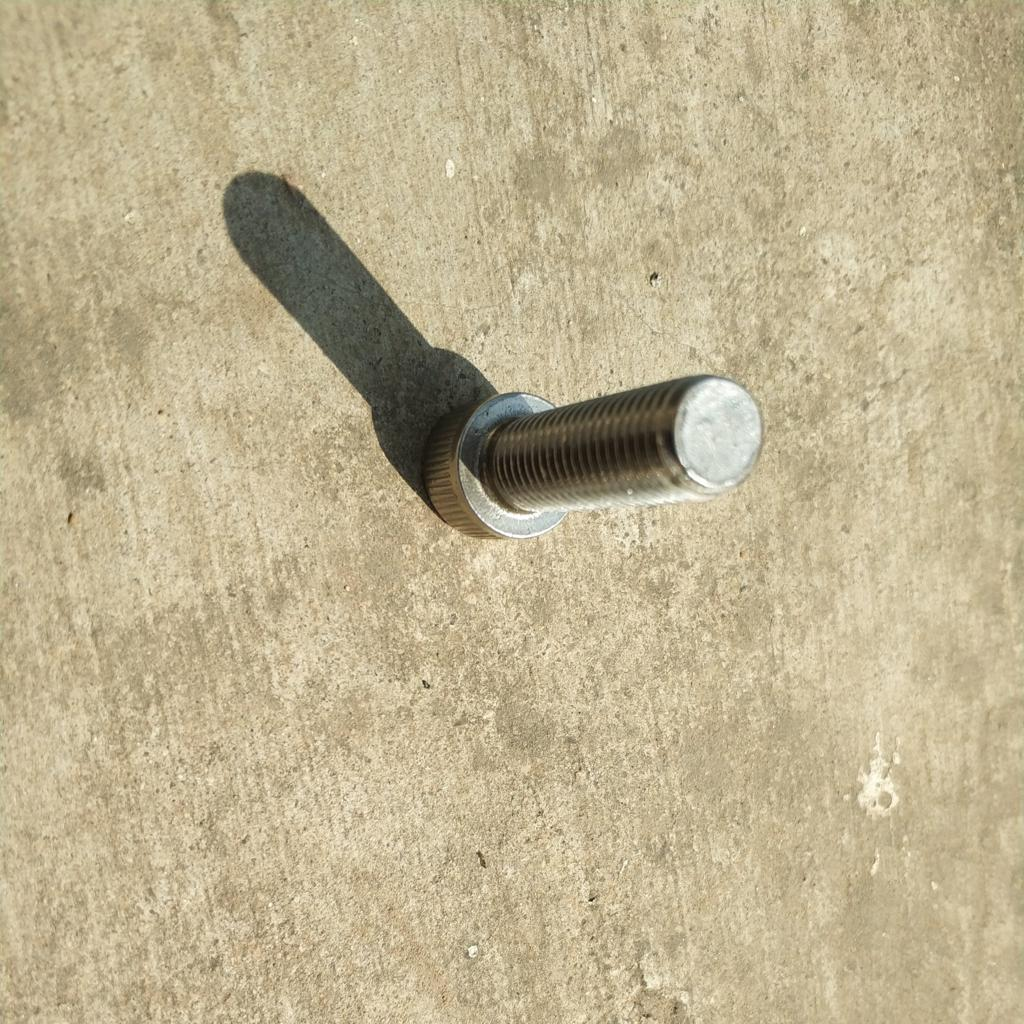screwtype1silver: (399, 367, 771, 555)
